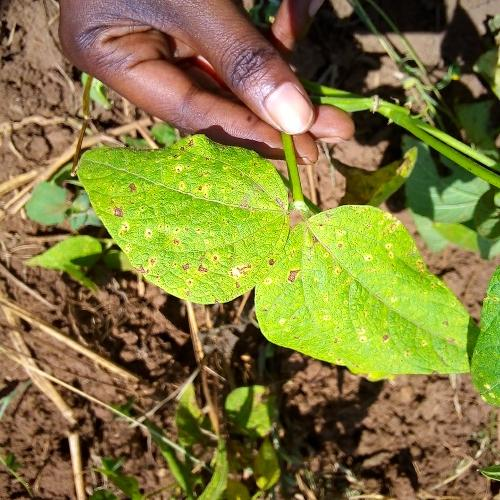hawar: (146, 249, 276, 288), (106, 175, 142, 230), (166, 145, 212, 184), (284, 250, 320, 292), (373, 325, 392, 357)
mozaik: (330, 218, 455, 298), (152, 186, 286, 244), (276, 316, 363, 351)
